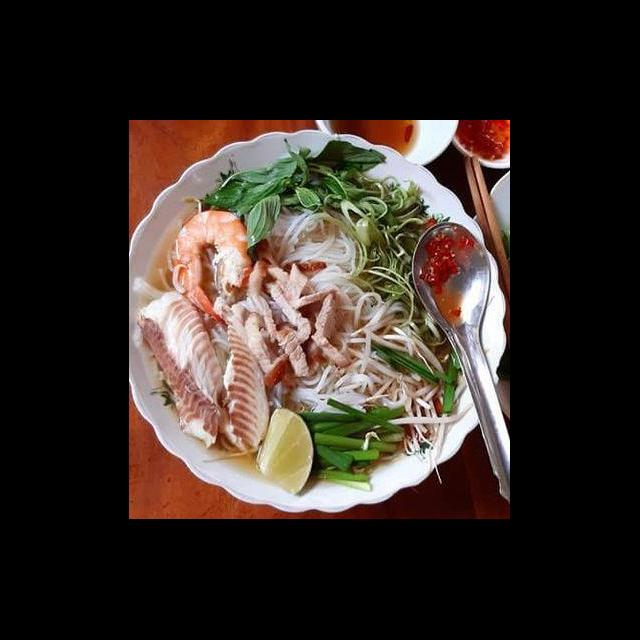bun: (262, 204, 412, 320), (288, 352, 412, 424)
ca: (134, 286, 228, 454), (217, 316, 274, 460)
thit heo quay: (311, 284, 354, 372), (262, 278, 314, 346), (270, 318, 314, 382)
